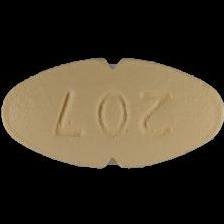68462-207: (0, 0, 224, 224)
